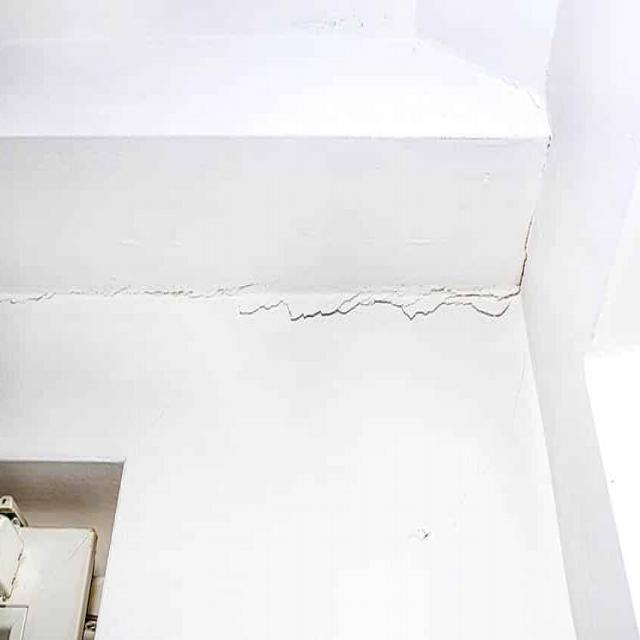leak: (1, 280, 522, 322), (518, 204, 538, 284)
